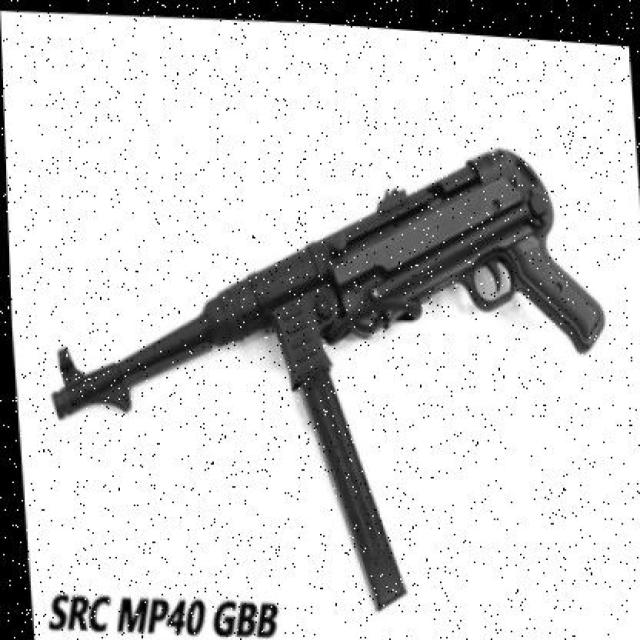weapon: (50, 147, 607, 616)
